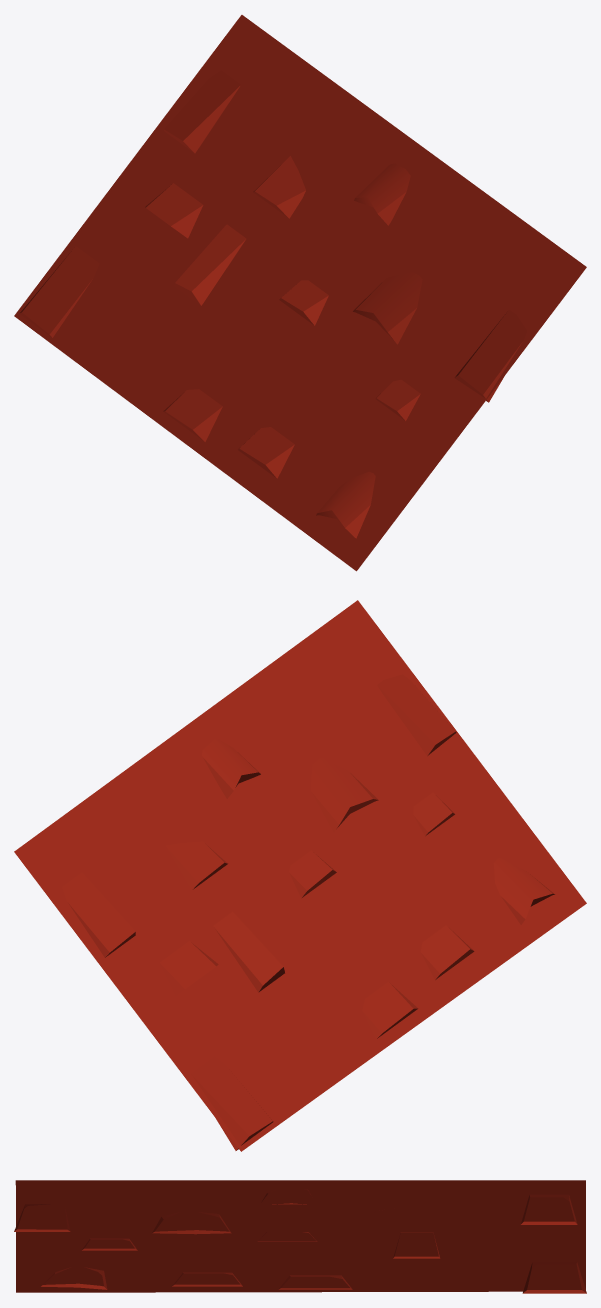
File: SM_L_R_Home_Roof.fbx
3 renders of one model, top to bottom at view 1: azimuth 30°, elevation 25°; view 2: azimuth 150°, elevation 25°; view 3: azimuth 270°, elevation 25°, orthographic. The views are drawn at different scales.
Parts seen in each view (by area): view 1: SM_L_R_Home_Roof; view 2: SM_L_R_Home_Roof; view 3: SM_L_R_Home_Roof.
Part boxes in pixels (<box>): SM_L_R_Home_Roof: <box>14,15,586,571</box>; SM_L_R_Home_Roof: <box>14,600,586,1151</box>; SM_L_R_Home_Roof: <box>14,1180,586,1293</box>.
Size of the model in its own units: 1.5 by 1.55 by 3.92.
